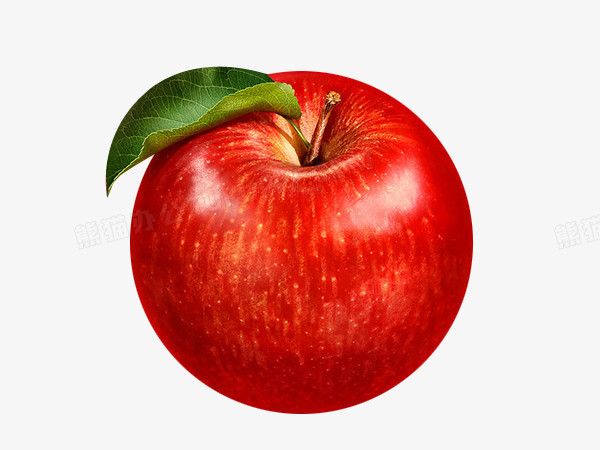apple: (125, 68, 474, 419)
